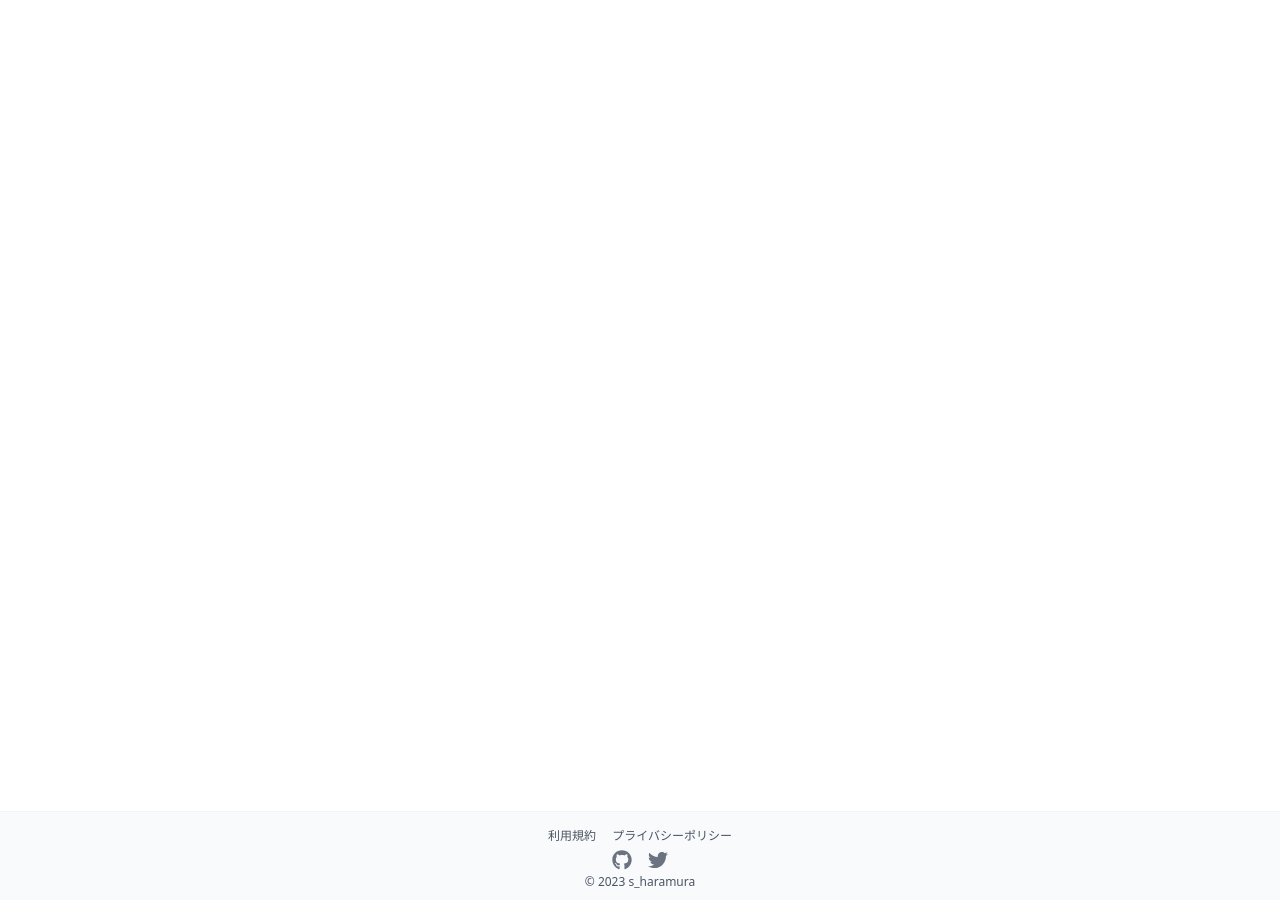
Scenario: HomePageFooter component › operations of the privacy policy dialog › display the dialog when the privacy policy is clicked
Click the button "プライバシーポリシー".
click(672, 836)  # box [612,828,732,844]
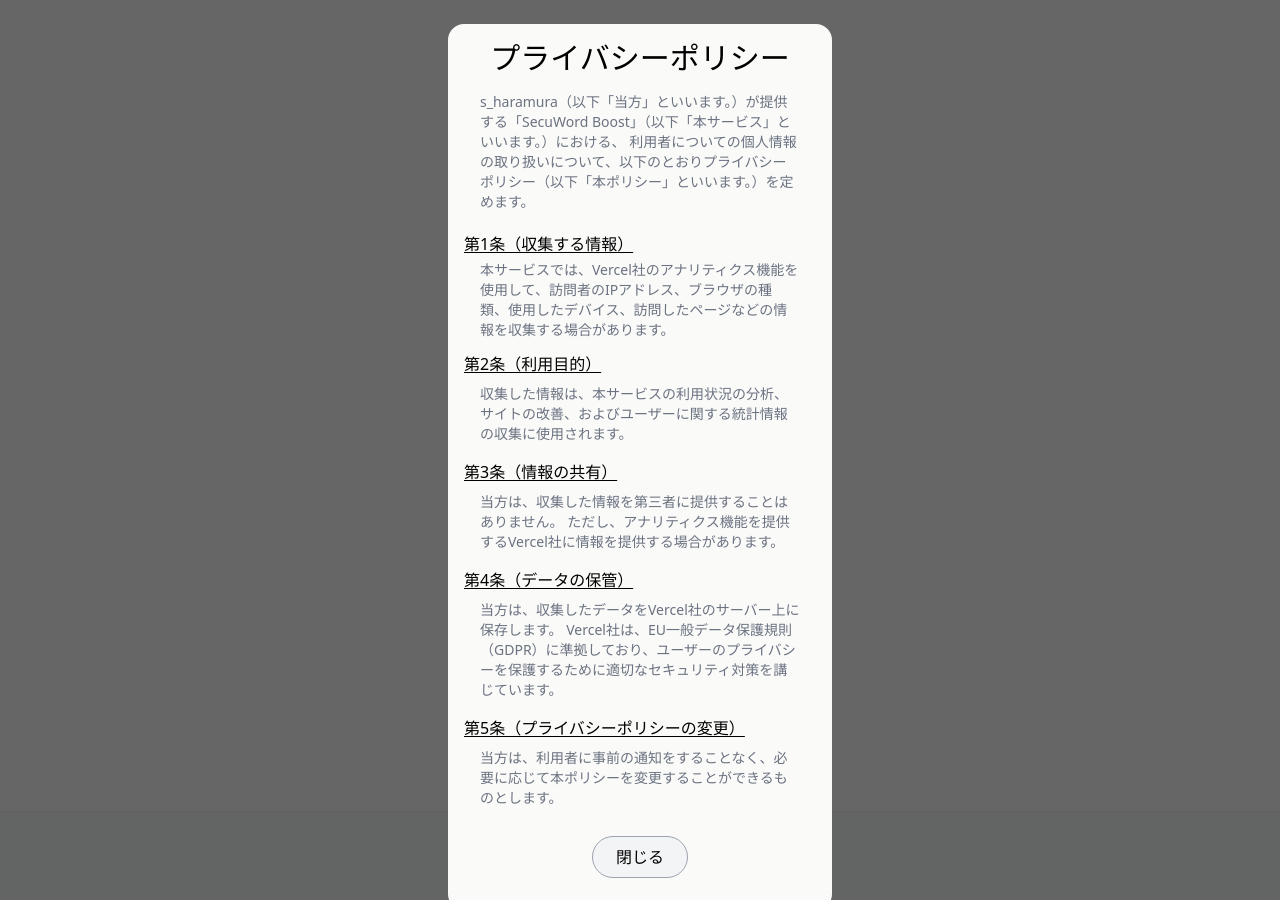
Now the heading "プライバシーポリシー" is shown, box [464,40,816,76]
